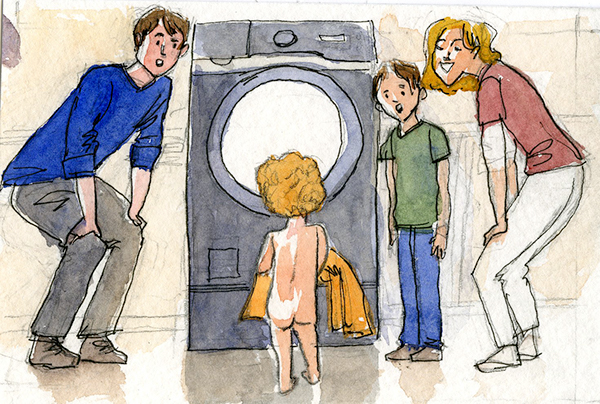person: (8, 1, 194, 377), (417, 6, 585, 380), (228, 152, 383, 398), (373, 52, 463, 360)
